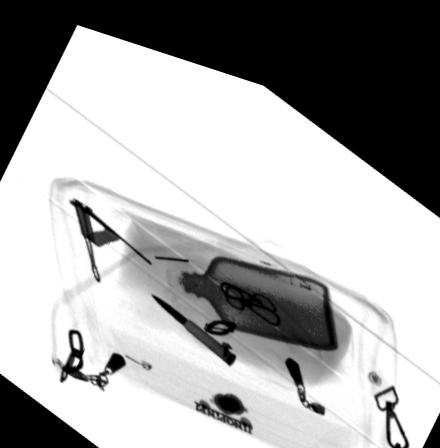Bullet: (148, 282, 237, 353)
